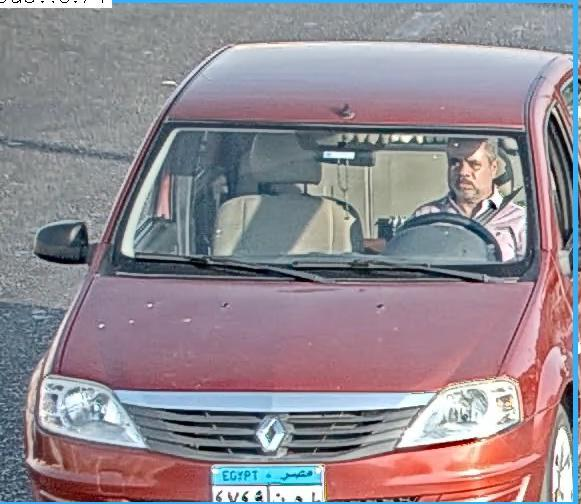windshield: (96, 113, 540, 280)
